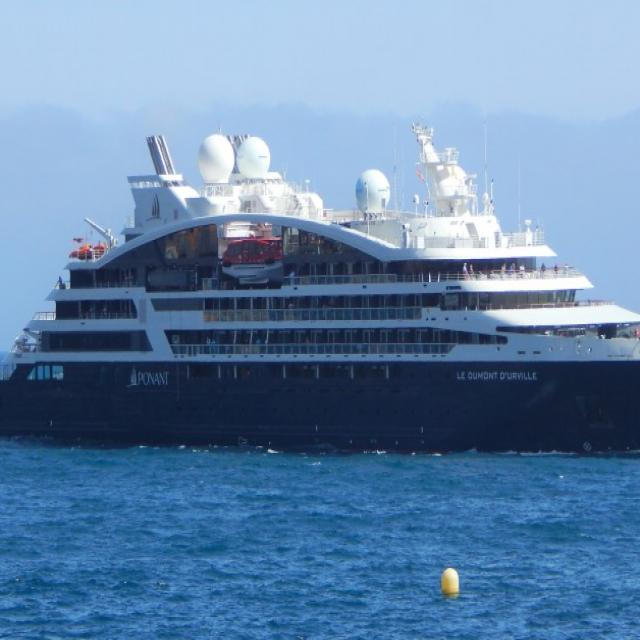cruises: (1, 118, 640, 466)
